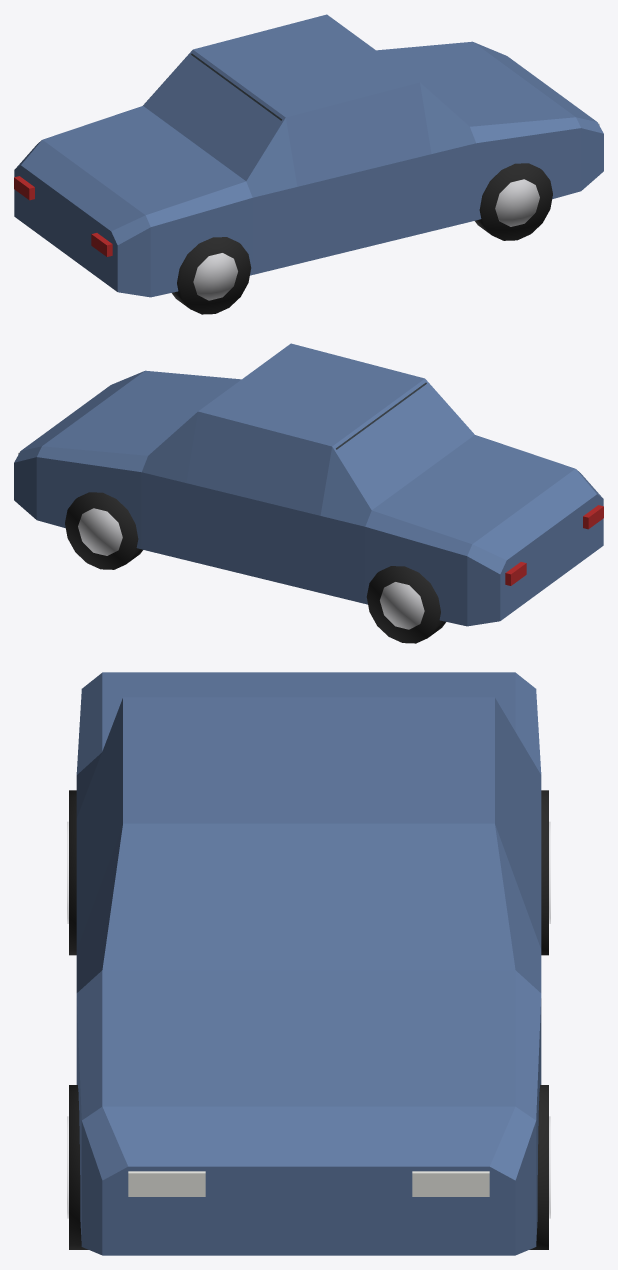
File: car_1.glb
3 views of the same model, one above another, from view 1: azimuth 30°, elevation 25°; view 2: azimuth 150°, elevation 25°; view 3: azimuth 270°, elevation 25° (orthographic). The views are drawn at different scales.
Visible parts, largest first — view 1: car_1; view 2: car_1; view 3: car_1.
Boxes of the visible parts, <box> form: car_1: <box>14,14,603,314</box>; car_1: <box>14,343,603,643</box>; car_1: <box>67,672,550,1255</box>.
Size of the model in its own units: 4.42 by 1.44 by 1.87.
